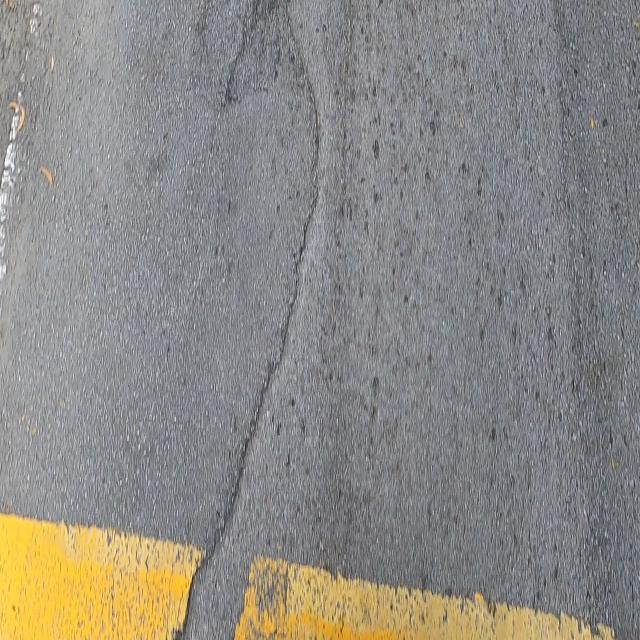Retak-Memanjang: (175, 38, 325, 640)
